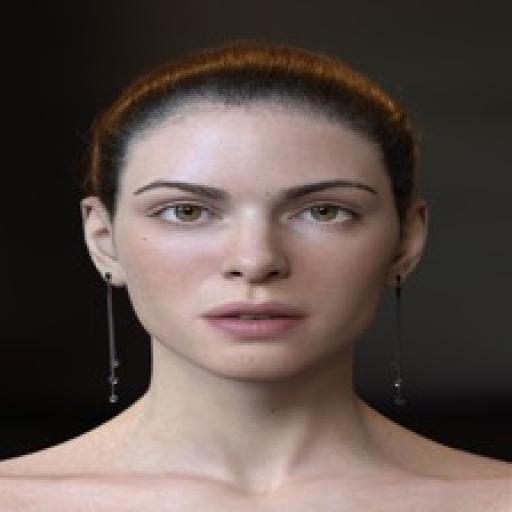human: (0, 38, 510, 512)
